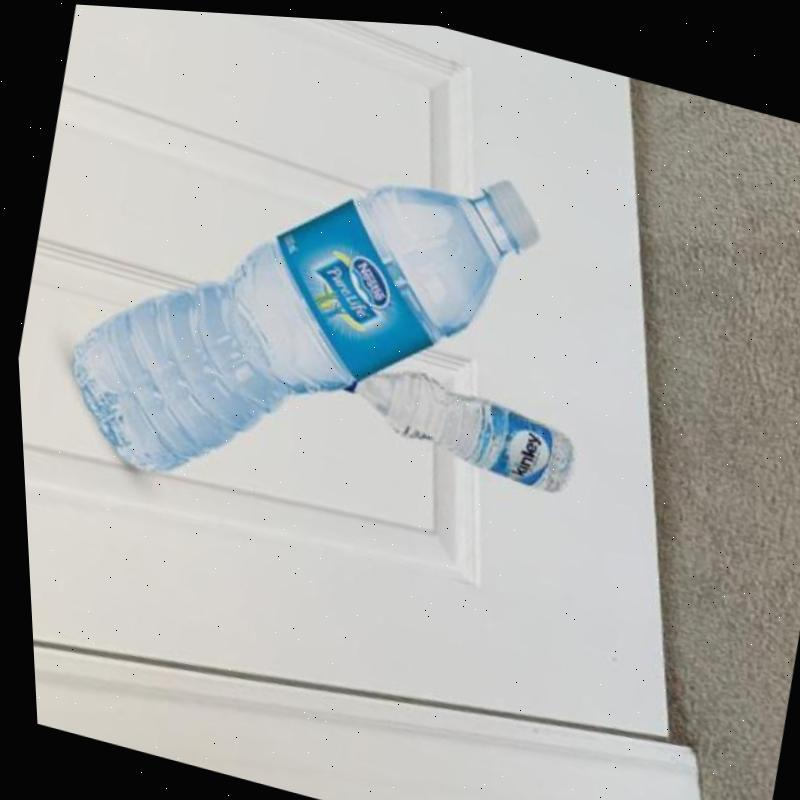botella: (32, 68, 560, 568), (330, 346, 580, 492)
